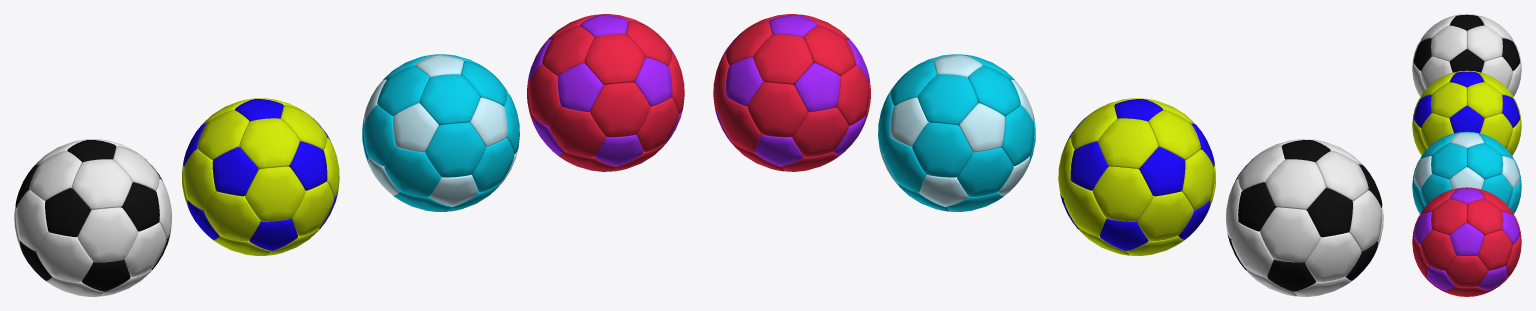
The model's file is Football_Ball.fbx.
3 views of the same model, side by side, from view 1: azimuth 30°, elevation 25°; view 2: azimuth 150°, elevation 25°; view 3: azimuth 270°, elevation 25° (orthographic). The views are drawn at different scales.
Parts seen in each view (by area): view 1: Ball_1, Ball_4, Ball_2, Ball_3; view 2: Ball_1, Ball_4, Ball_2, Ball_3; view 3: Ball_4, Ball_2, Ball_1, Ball_3.
Part boxes in pixels (box(x1,y1,x2,y2)): Ball_1: box(14, 139, 171, 296); Ball_4: box(527, 14, 684, 171); Ball_2: box(182, 98, 339, 255); Ball_3: box(362, 54, 519, 211); Ball_1: box(1226, 139, 1383, 296); Ball_4: box(713, 14, 870, 171); Ball_2: box(1058, 98, 1215, 255); Ball_3: box(878, 54, 1035, 211); Ball_4: box(1412, 187, 1521, 296); Ball_2: box(1412, 70, 1521, 155); Ball_1: box(1412, 14, 1521, 96); Ball_3: box(1412, 131, 1521, 213).
Size of the model in its own units: 104 by 22 by 21.97.
